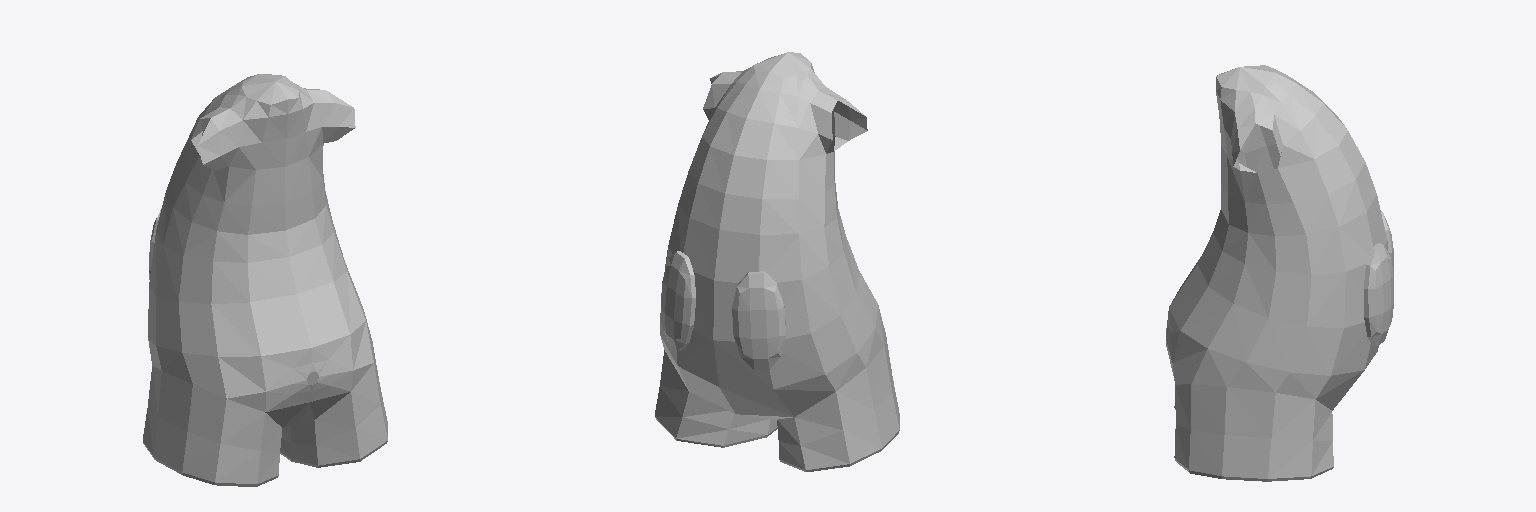
Rendered from MickeyT.obj.
3 renders of one model, left to right at view 1: azimuth 30°, elevation 25°; view 2: azimuth 150°, elevation 25°; view 3: azimuth 270°, elevation 25°, orthographic.
Parts seen in each view (by area): view 1: Torso_default; view 2: Torso_default; view 3: Torso_default.
Part boxes in pixels (bbox=[...]): Torso_default: bbox=[143, 74, 387, 486]; Torso_default: bbox=[655, 52, 899, 471]; Torso_default: bbox=[1166, 65, 1393, 481].
Bounding box in the file's own units: 30.21 × 50.44 × 27.6.